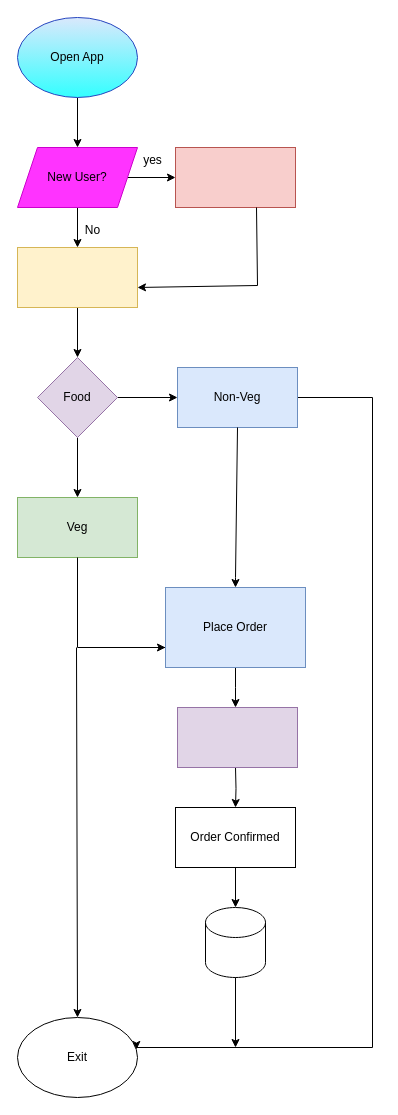
The diagram is 398 pixels wide and 1115 high, and some of its shapes have lost their labels. Each missing label, with the centre of its shape:
"Feedback" goes at [235,942].
"Payment" goes at [237,737].
"sign in" goes at [77,277].
"Sing up" goes at [235,177].
